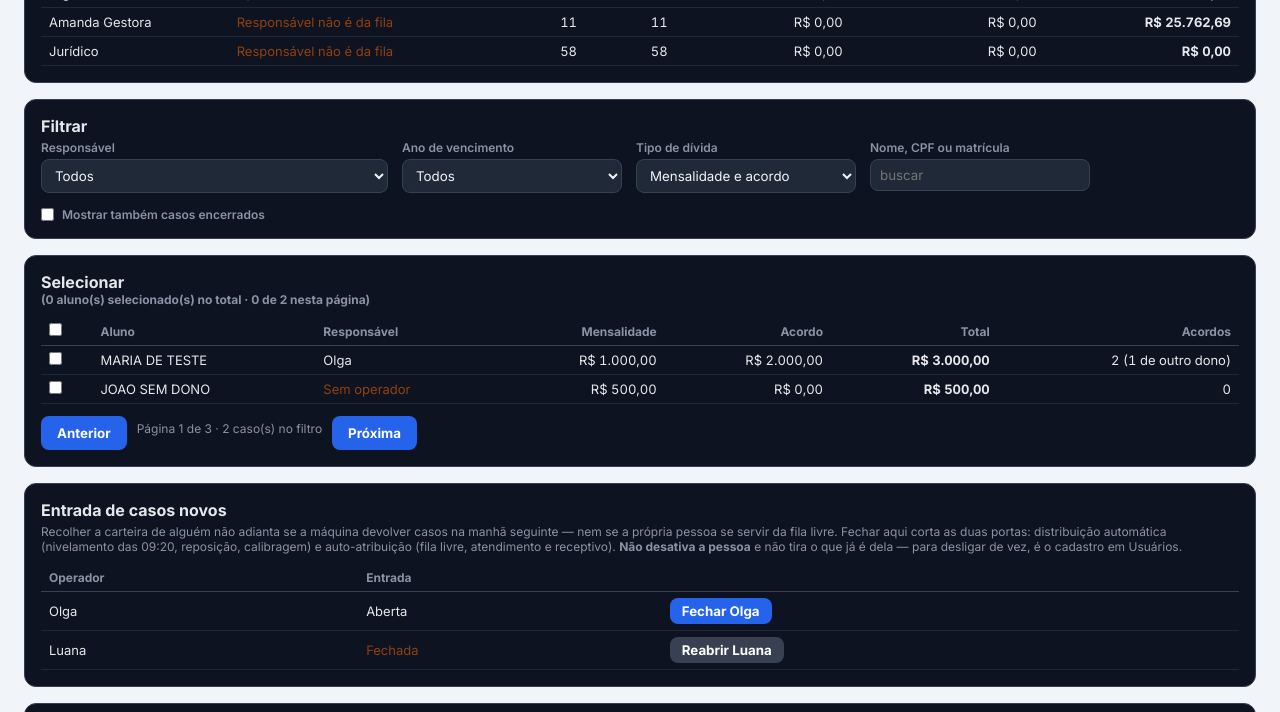
Test: Carteira Geral — remanejamento › exige motivo antes de gerar a prévia
(page scrolled)
Expected: the text "MARIA DE TESTE" is shown, x1=92 y1=346 x2=315 y2=374
Click the checkbox named "Selecionar MARIA DE TESTE".
click(56, 358)  # box x1=49 y1=352 x2=62 y2=365
(page scrolled)
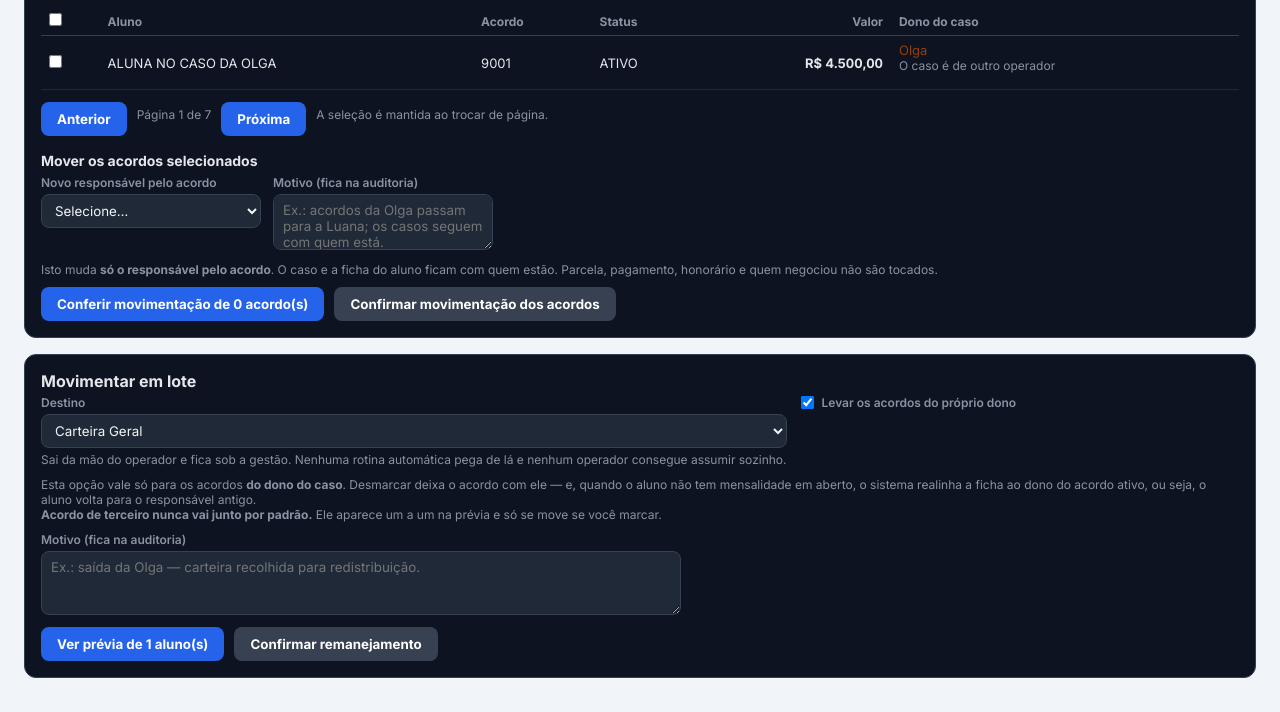
Click the button "Ver prévia de 1 aluno(s)".
click(133, 644)  # box x1=41 y1=627 x2=224 y2=661
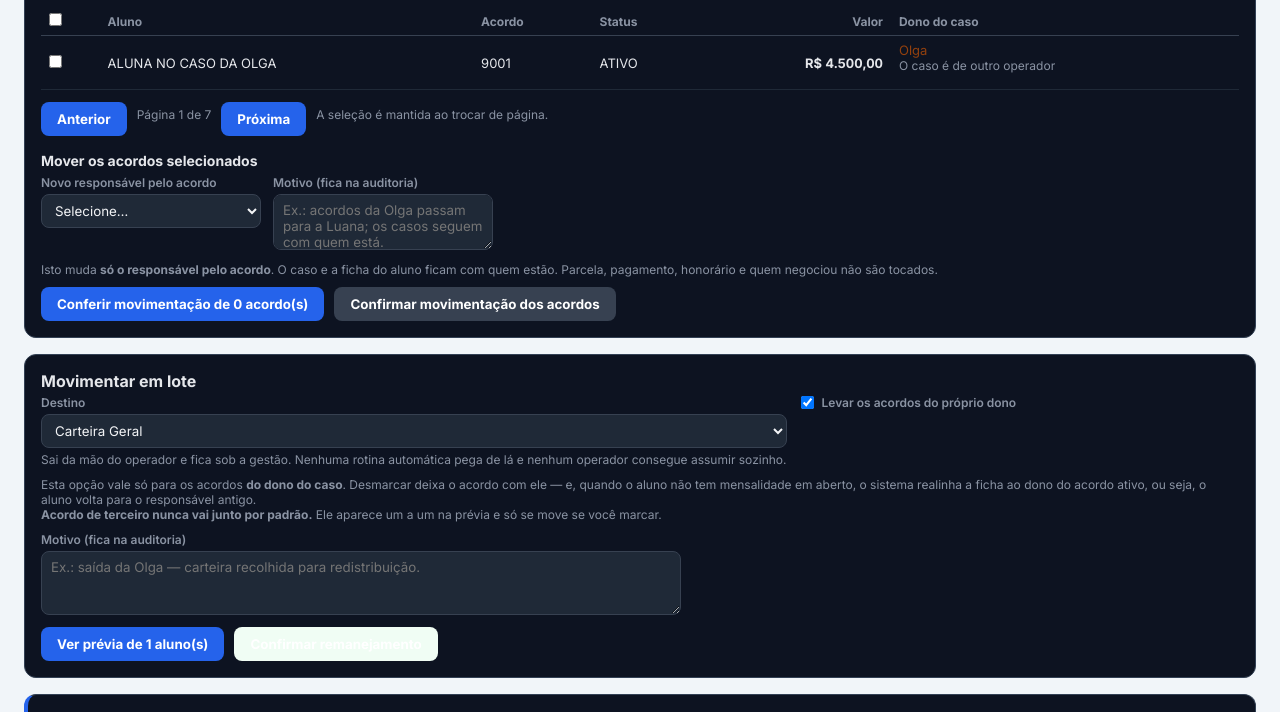
Click the button "Confirmar remanejamento".
click(336, 644)  # box x1=234 y1=627 x2=438 y2=661
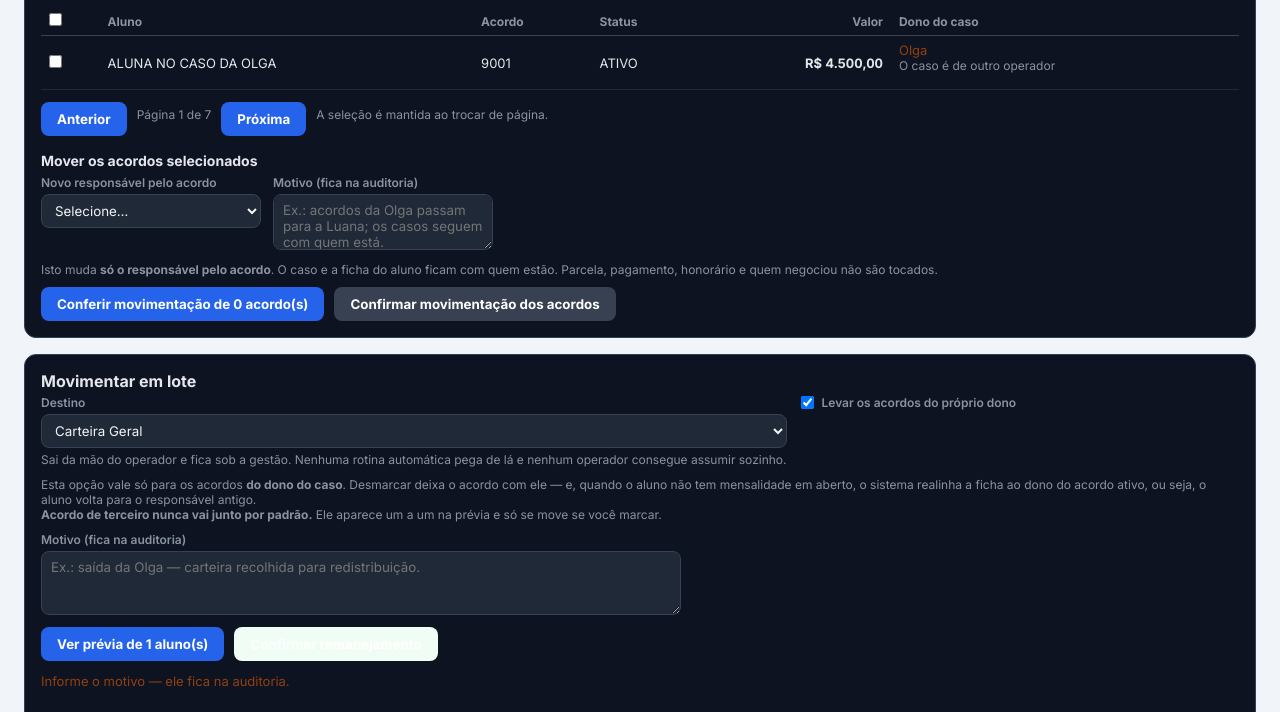
Expected: the text "Informe o motivo — ele fica na auditoria." is shown, x1=41 y1=673 x2=290 y2=689
